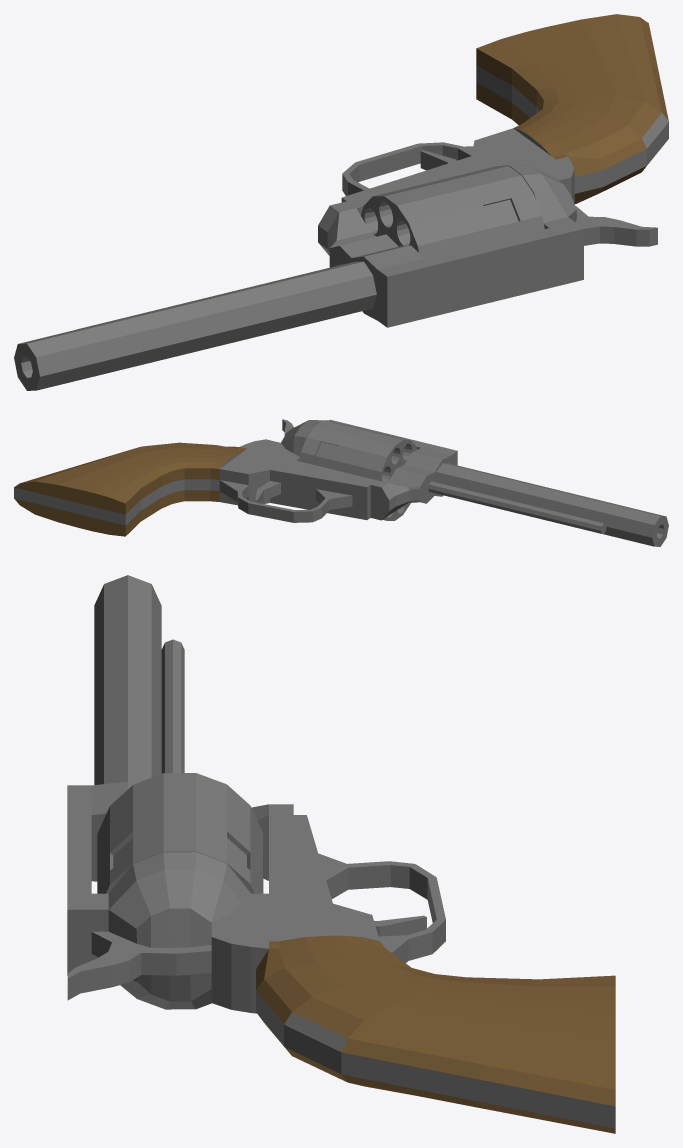
Rendered from low_poly_revolver.glb.
3 views of the same model, one above another, from view 1: azimuth 30°, elevation 25°; view 2: azimuth 150°, elevation 25°; view 3: azimuth 270°, elevation 25° (orthographic). The views are drawn at different scales.
Visible parts, largest first — view 1: barrel_0; view 2: barrel_0; view 3: barrel_0.
Part boxes in pixels (box(x1,y1,x2,y2)): barrel_0: box(14, 14, 668, 390); barrel_0: box(14, 419, 668, 546); barrel_0: box(67, 575, 615, 1133).
Size of the model in its own units: 9.96 by 1.36 by 4.51.
